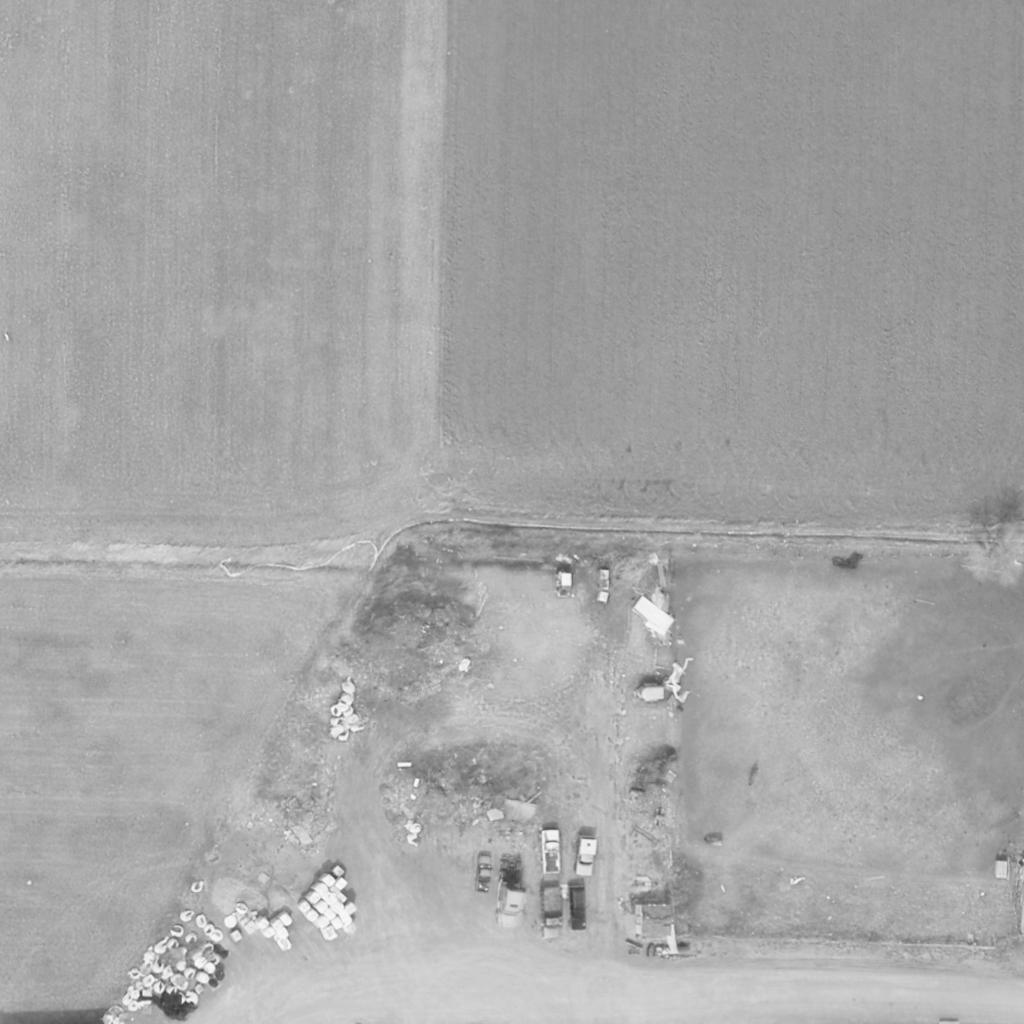vehicle: (493, 852, 527, 928), (536, 888, 566, 938), (541, 827, 563, 875), (569, 884, 587, 930), (575, 837, 595, 877), (475, 854, 493, 894)
